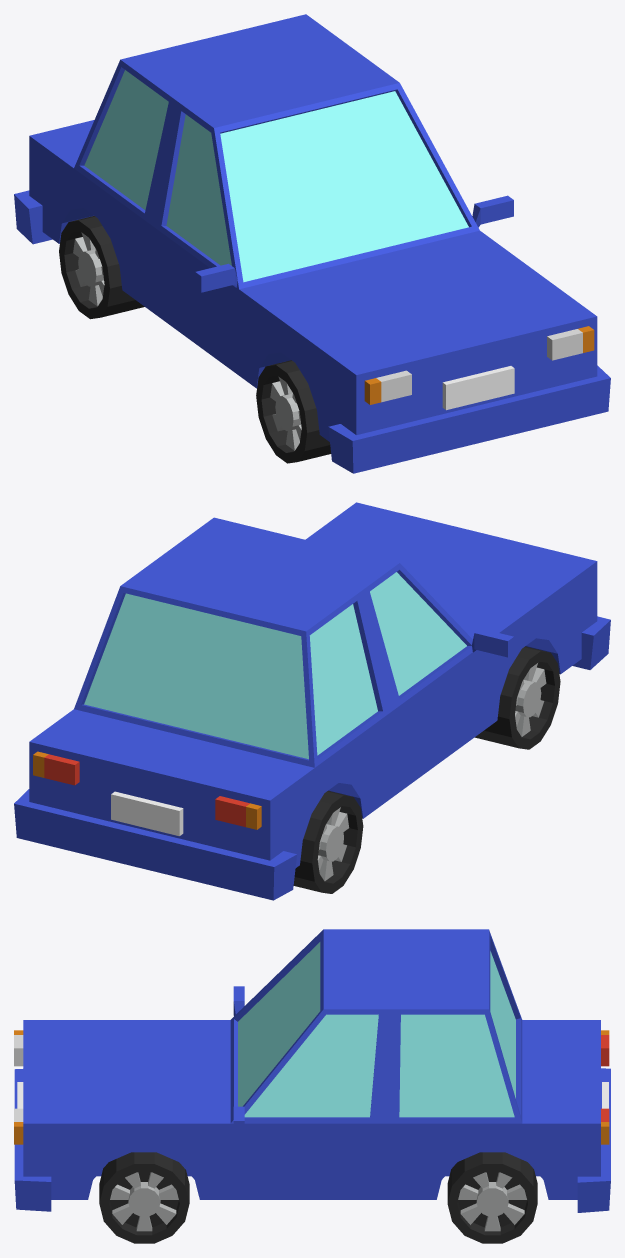
The model's file is Car.glb.
3 views of the same model, one above another, from view 1: azimuth 30°, elevation 25°; view 2: azimuth 150°, elevation 25°; view 3: azimuth 270°, elevation 25° (orthographic). The views are drawn at different scales.
Parts seen in each view (by area): view 1: Car, Wheel_BR, Wheel_FR, Lights, Number Plate, Mirror; view 2: Car, Wheel_FR, Wheel_BR, Lights.001, Number Plate.001, Mirror; view 3: Car, Wheel_FL, Wheel_BL, Lights, Mirror, Lights.001.
Boxes of the visible parts, box(x1,y1,x2,y2) form: Car: box(14, 14, 610, 473); Wheel_BR: box(59, 216, 144, 319); Wheel_FR: box(256, 360, 331, 463); Lights: box(364, 326, 594, 404); Number Plate: box(442, 366, 514, 410); Mirror: box(195, 195, 513, 292); Car: box(14, 502, 610, 900); Wheel_FR: box(474, 646, 560, 749); Wheel_BR: box(293, 791, 363, 893); Lights.001: box(33, 751, 261, 829); Number Plate.001: box(111, 791, 183, 836); Mirror: box(472, 628, 513, 657); Car: box(14, 929, 610, 1212); Wheel_FL: box(99, 1152, 189, 1243); Wheel_BL: box(447, 1152, 537, 1243); Lights: box(14, 1030, 23, 1144); Mirror: box(233, 986, 244, 1135); Lights.001: box(601, 1030, 609, 1144).
Bounding box in the file's own units: 2.6 × 1.97 × 4.86.
